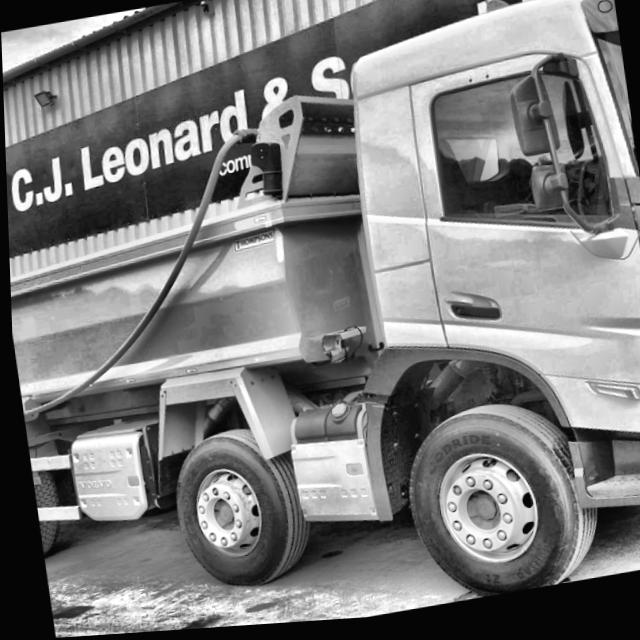dump_truck: (1, 0, 640, 640)
